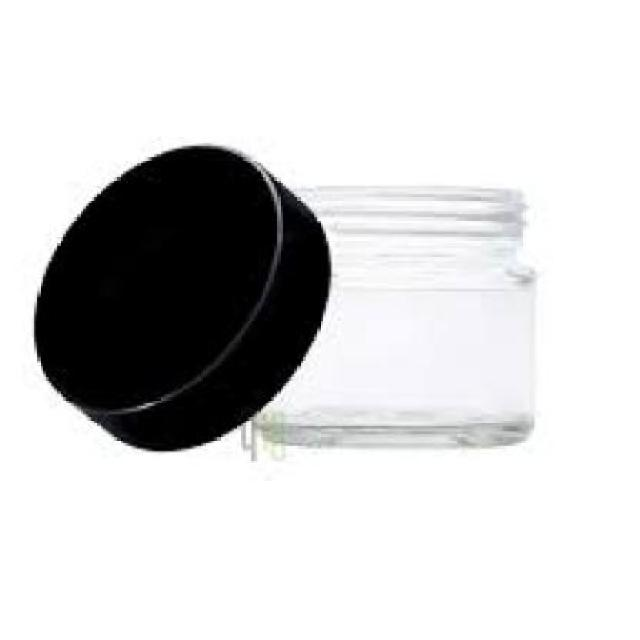GLASS: (260, 186, 537, 443)
PLASTIC: (37, 143, 329, 451)
